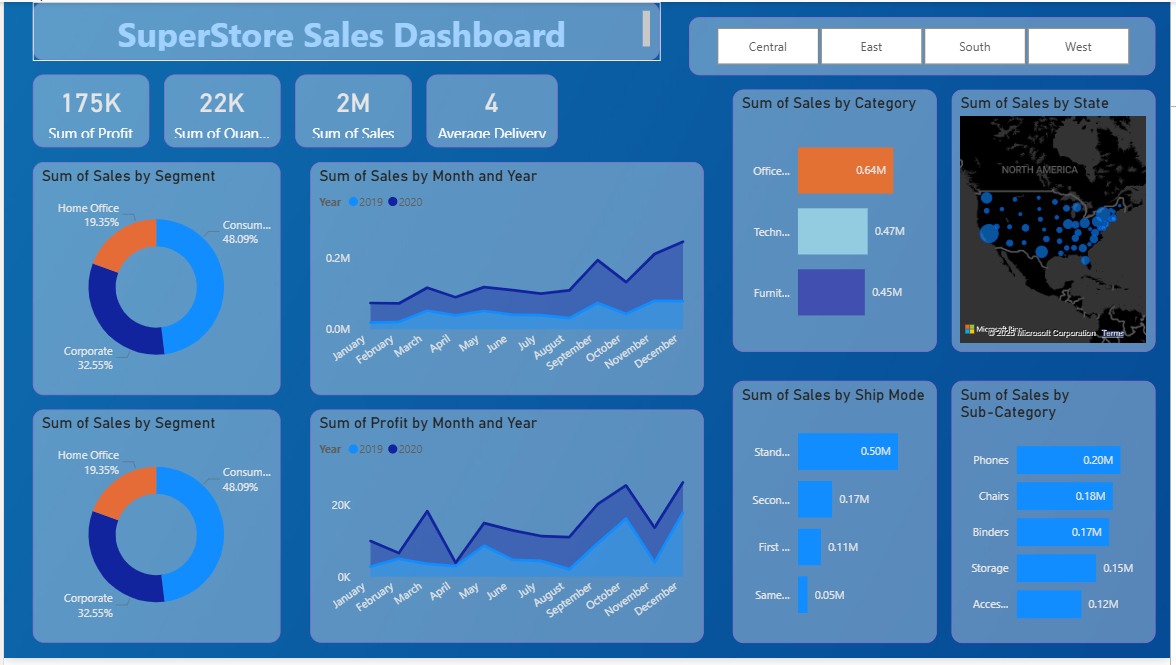

The dashboard page shown, as its layout file describes it:
{"tool":"powerbi","page":{"name":"Page 1","canvas":[1280,720],"ordinal":0},"visuals":[{"type":"clusteredBarChart","fields":{"Category":["Sheet1.Category"],"Y":["Sum(Sheet1.Sales)"]},"box":[800,96,224,288],"z":0},{"type":"clusteredBarChart","fields":{"Category":["Sheet1.Sub-Category"],"Y":["Sum(Sheet1.Sales)"]},"box":[1040,416,224,288],"z":1000},{"type":"clusteredBarChart","fields":{"Category":["Sheet1.Ship Mode"],"Y":["Sum(Sheet1.Sales)"]},"box":[800,416,224,288],"z":2000},{"type":"stackedAreaChart","fields":{"Y":["Sum(Sheet1.Sales)"],"Category":["Sheet1.Order Date.Variation.Date Hierarchy.Month"],"Series":["Sheet1.Order Date.Variation.Date Hierarchy.Year"]},"box":[336,176,432,256],"z":3000},{"type":"stackedAreaChart","fields":{"Category":["Sheet1.Order Date.Variation.Date Hierarchy.Month"],"Series":["Sheet1.Order Date.Variation.Date Hierarchy.Year"],"Y":["Sum(Sheet1.Profit)"]},"box":[336,448,432,256],"z":4000},{"type":"map","fields":{"Category":["Sheet1.State"],"Size":["Sum(Sheet1.Sales)"]},"box":[1040,96,224,288],"z":5000},{"type":"donutChart","fields":{"Category":["Sheet1.Segment"],"Y":["Sum(Sheet1.Sales)"]},"box":[32,176,272,256],"z":6000},{"type":"donutChart","fields":{"Category":["Sheet1.Segment","Sheet1.Ship Mode"],"Y":["Sum(Sheet1.Sales)"]},"box":[32,448,272,256],"z":7000},{"type":"textbox","box":[32,0,688,64],"z":8000},{"type":"card","fields":{"Values":["Sum(Sheet1.Profit)"]},"box":[32,80,128,80],"z":9000},{"type":"card","fields":{"Values":["Sum(Sheet1.Quantity)"]},"box":[176,80,128,80],"z":10000},{"type":"card","fields":{"Values":["Sum(Sheet1.Sales)"]},"box":[320,80,128,80],"z":11000},{"type":"card","fields":{"Values":["Avg(Sheet1.AvgDelivery)"]},"box":[464,80,144,80],"z":12000},{"type":"slicer","fields":{"Values":["Sheet1.Region"]},"box":[752,16,512,64],"z":13000}]}

Visuals, with their boxes in screenshot pixels (x1, y1, x2, y2), scaled from the page's 1280x720 canvas onto the 1176x665 screenshot:
clusteredBarChart - Sheet1.Category x Sum(Sheet1.Sales): (735, 89, 941, 355)
clusteredBarChart - Sheet1.Sub-Category x Sum(Sheet1.Sales): (956, 384, 1161, 650)
clusteredBarChart - Sheet1.Ship Mode x Sum(Sheet1.Sales): (735, 384, 941, 650)
stackedAreaChart - Sum(Sheet1.Sales) x Sheet1.Order Date.Variation.Date Hierarchy.Month: (309, 163, 706, 399)
stackedAreaChart - Sheet1.Order Date.Variation.Date Hierarchy.Month x Sheet1.Order Date.Variation.Date Hierarchy.Year: (309, 414, 706, 650)
map - Sheet1.State x Sum(Sheet1.Sales): (956, 89, 1161, 355)
donutChart - Sheet1.Segment x Sum(Sheet1.Sales): (29, 163, 279, 399)
donutChart - Sheet1.Segment x Sheet1.Ship Mode: (29, 414, 279, 650)
textbox: (29, 0, 662, 59)
card - Sum(Sheet1.Profit): (29, 74, 147, 148)
card - Sum(Sheet1.Quantity): (162, 74, 279, 148)
card - Sum(Sheet1.Sales): (294, 74, 412, 148)
card - Avg(Sheet1.AvgDelivery): (426, 74, 559, 148)
slicer - Sheet1.Region: (691, 15, 1161, 74)
